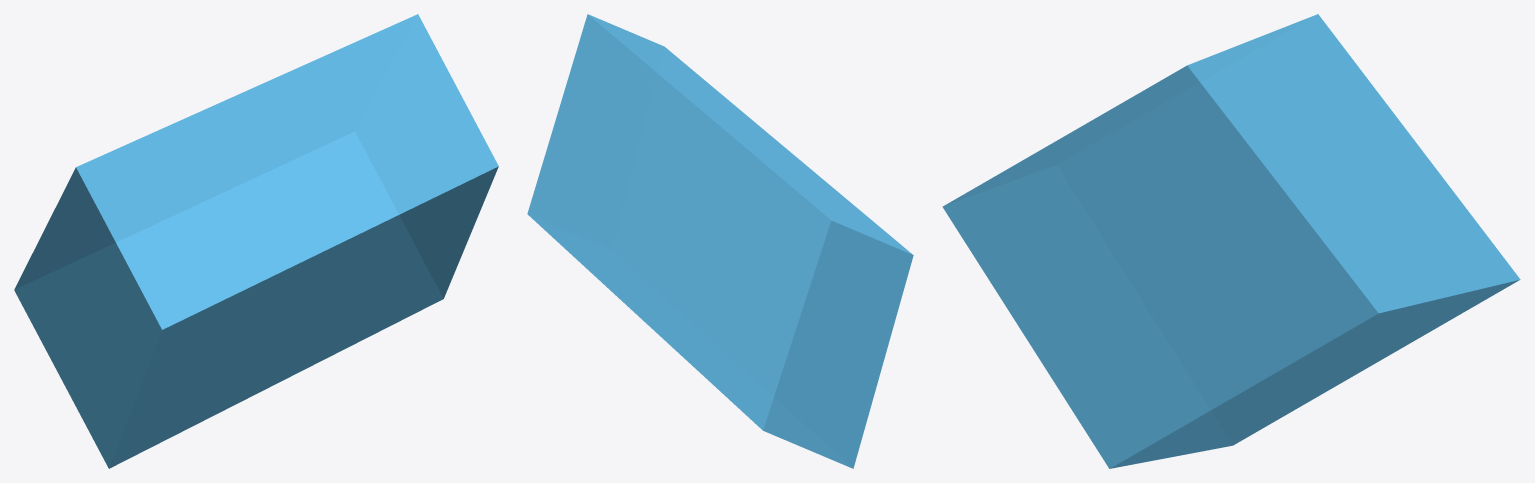
File: Event_421115418_HErechit_2.fbx
3 renders of one model, left to right at view 1: azimuth 30°, elevation 25°; view 2: azimuth 150°, elevation 25°; view 3: azimuth 270°, elevation 25°, orthographic. The views are drawn at different scales.
Parts seen in each view (by area): view 1: Model; view 2: Model; view 3: Model.
Part boxes in pixels (bbox=[...]): Model: bbox=[14, 14, 498, 468]; Model: bbox=[527, 14, 913, 468]; Model: bbox=[942, 14, 1520, 468].
Bounding box in the file's own units: 0.6839 × 0.862 × 0.7558.
